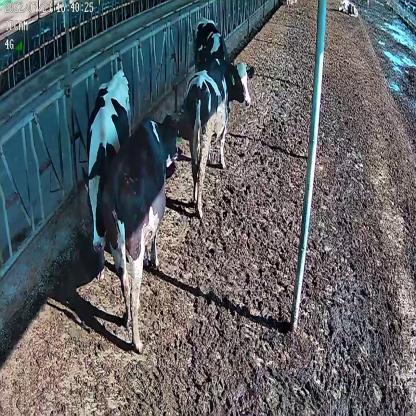cow: (100, 114, 180, 343), (182, 58, 256, 217), (81, 64, 132, 276), (191, 15, 233, 72), (336, 0, 358, 18)
